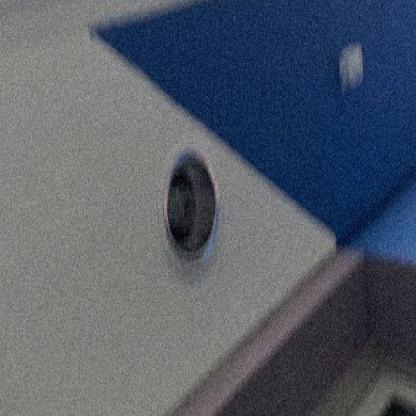light_off: (145, 115, 228, 292)
